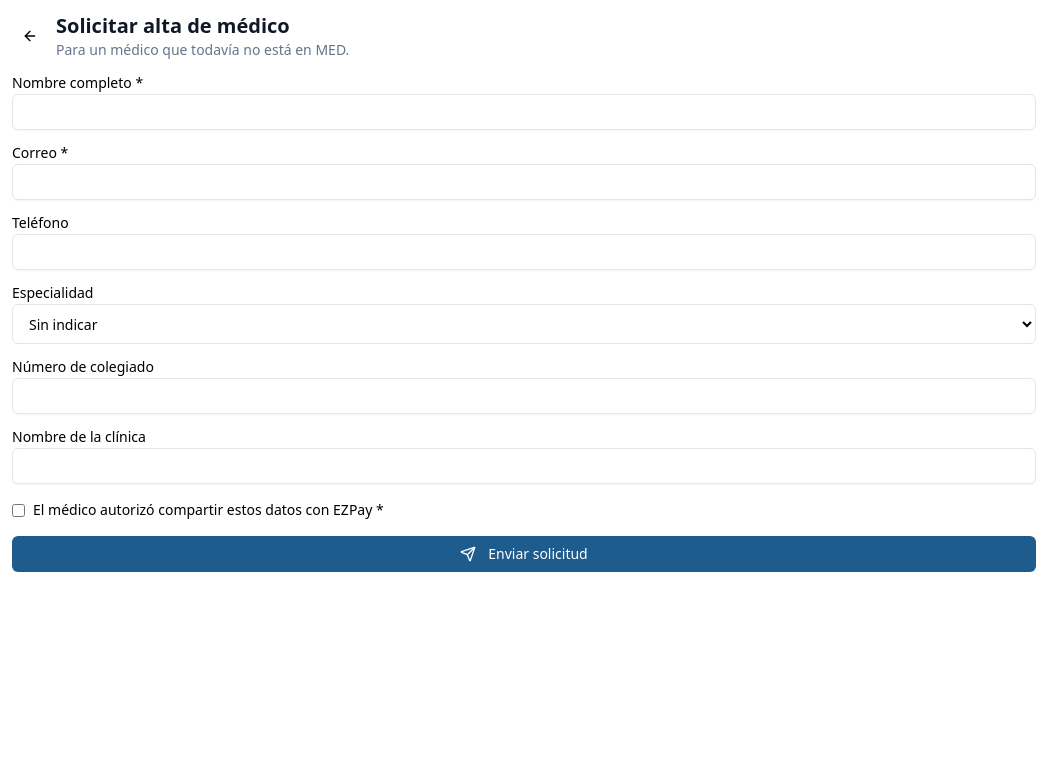
Test: SolicitarAltaPage › PV021 del servidor va pegado al correo; PV019 arriba del botón
Type "Dra. Ana Pérez" into the field labelled "Nombre completo *" at (524,112), box [12,94,1036,130]
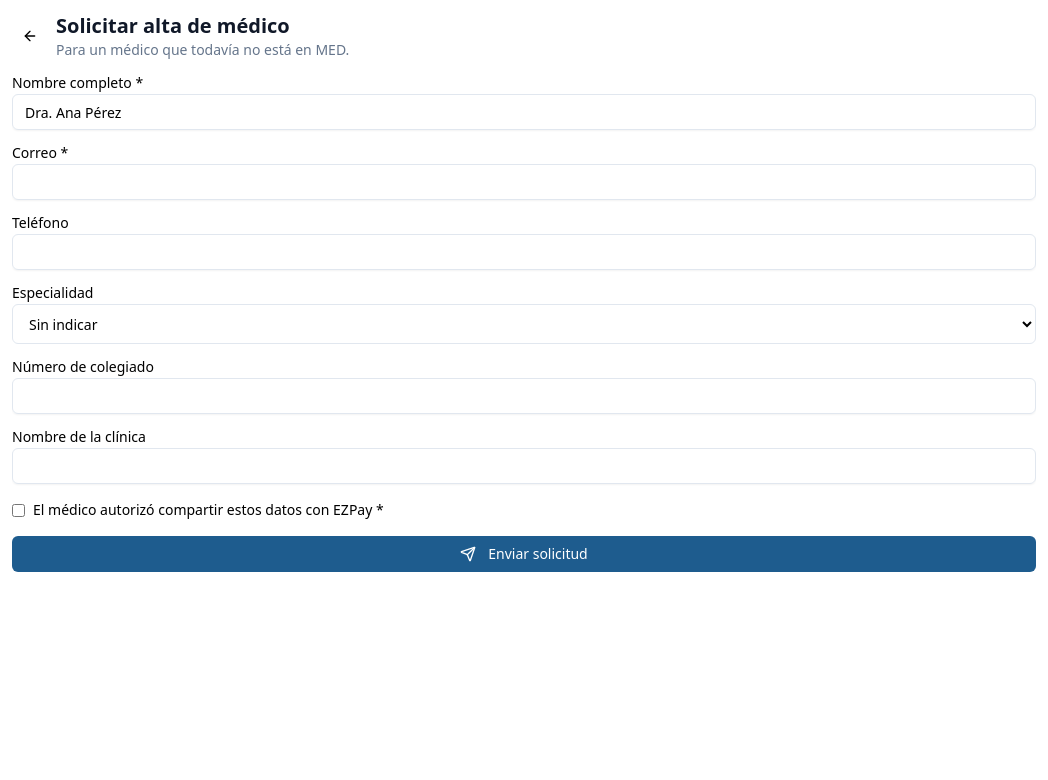
Type "ana@clinica.com" into the field labelled "Correo *" at (524,182), box [12,164,1036,200]
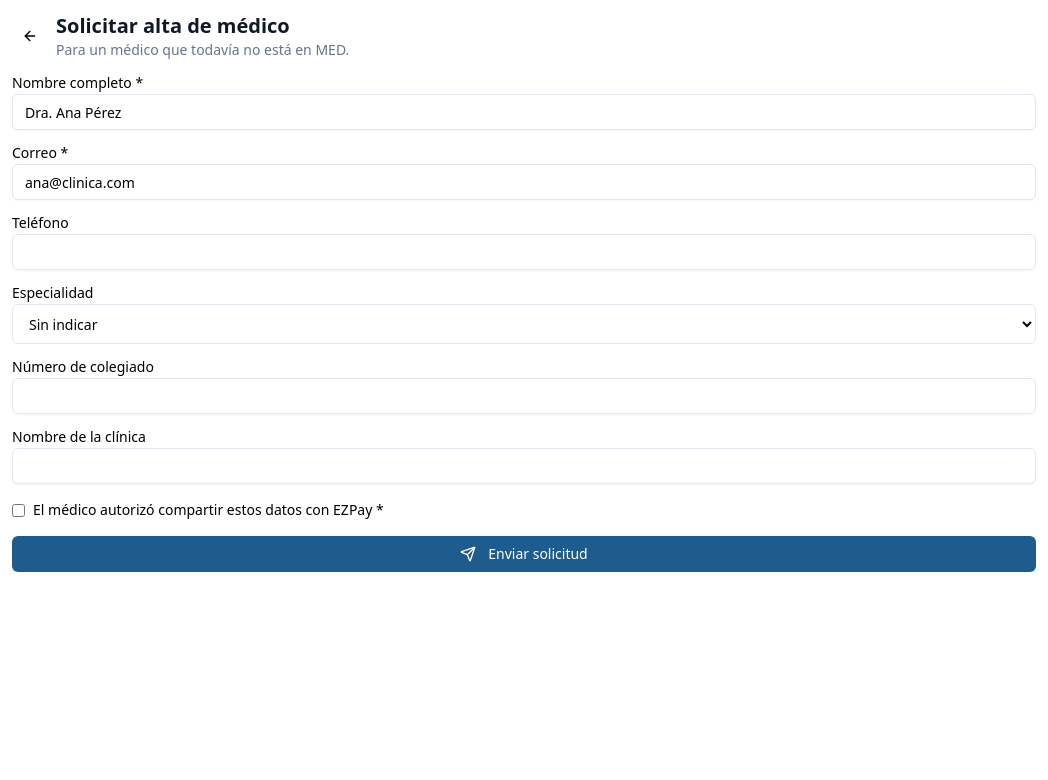
Click the checkbox at (18,510), box [12,504,25,517]
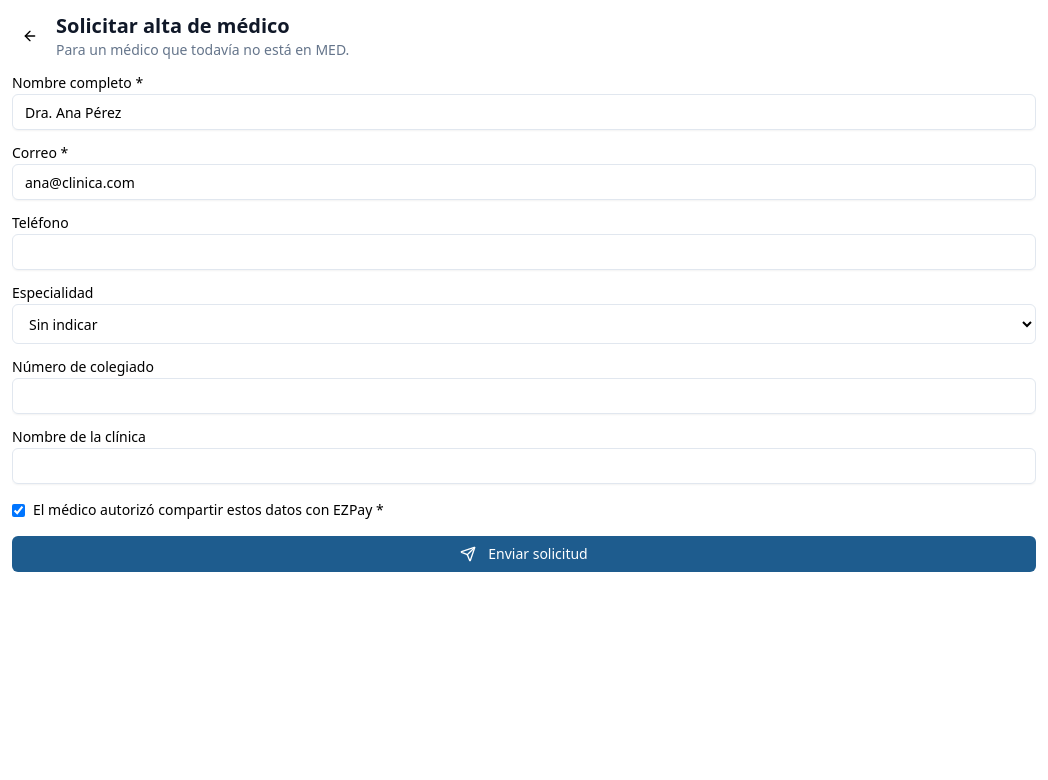
Click the button "Enviar solicitud" at (524,554), box [12,536,1036,572]
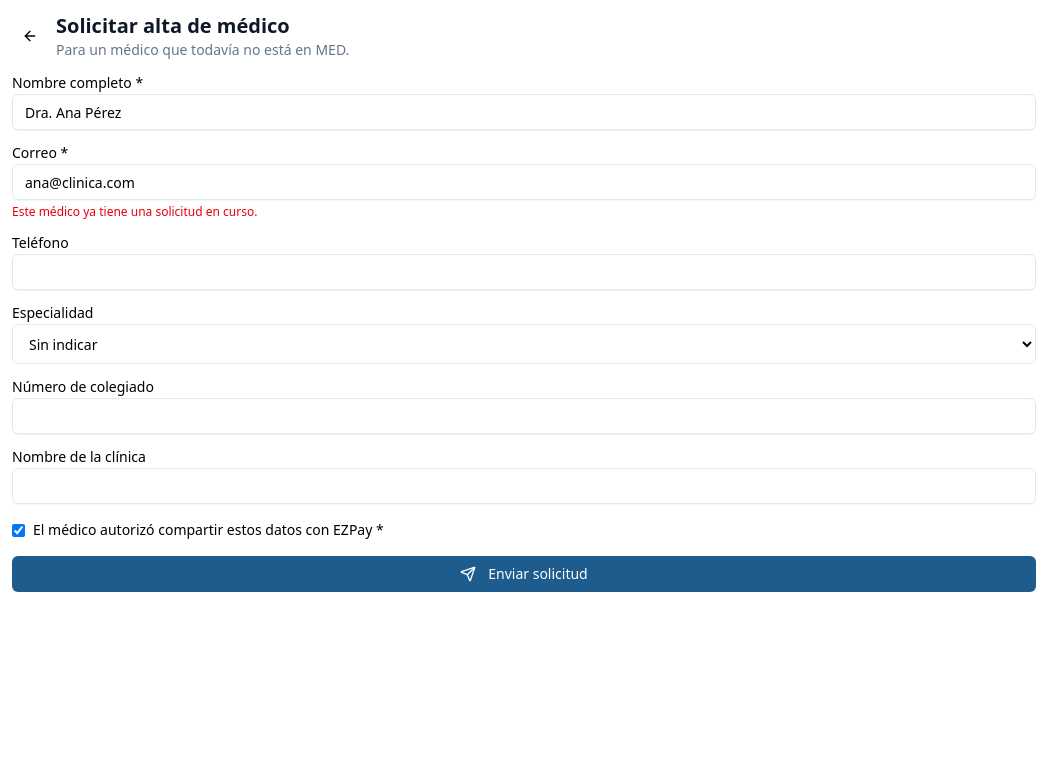
Result: the text with test id "error-email" reads "Este médico ya tiene una solicitud en curso." at [12,203,257,220]
Click the button "Enviar solicitud" at (524,574), box [12,556,1036,592]
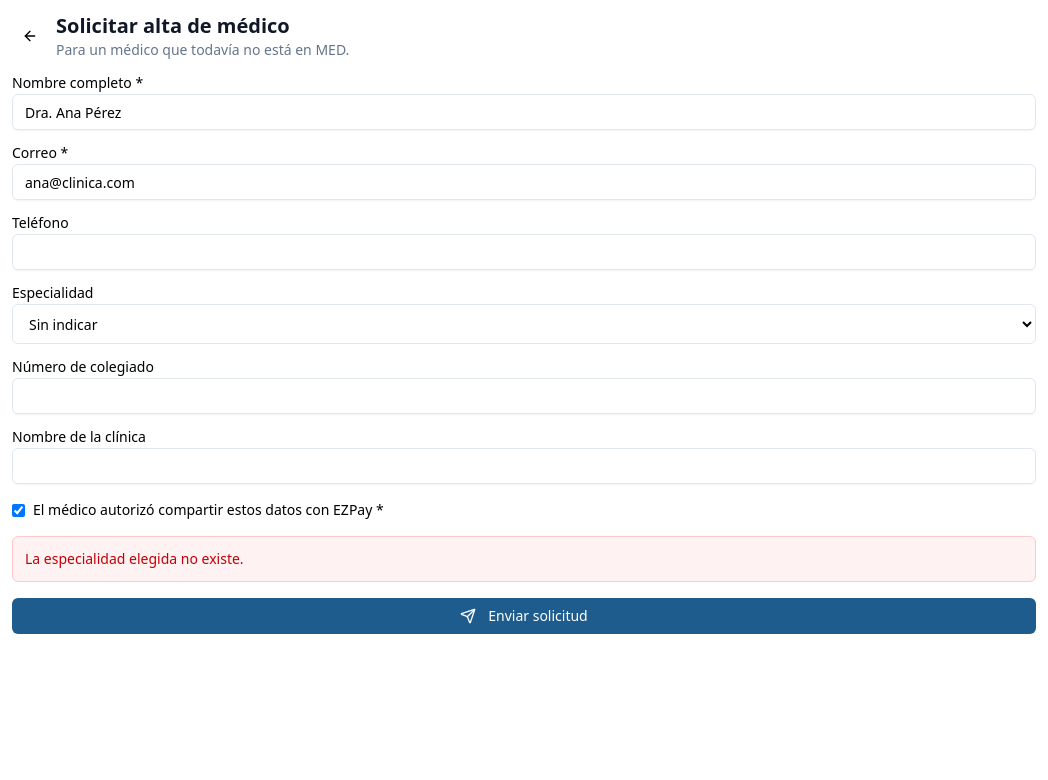
Result: the text with test id "error-general" reads "La especialidad elegida no existe." at [25,549,244,568]
